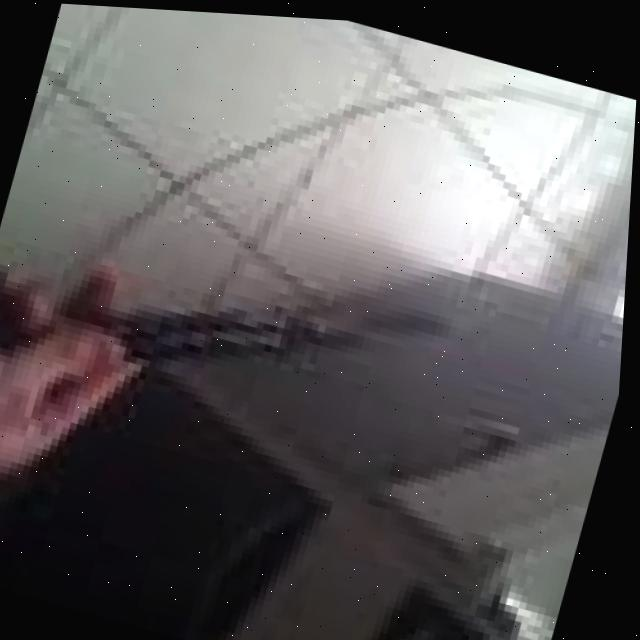knife: (112, 220, 468, 441)
